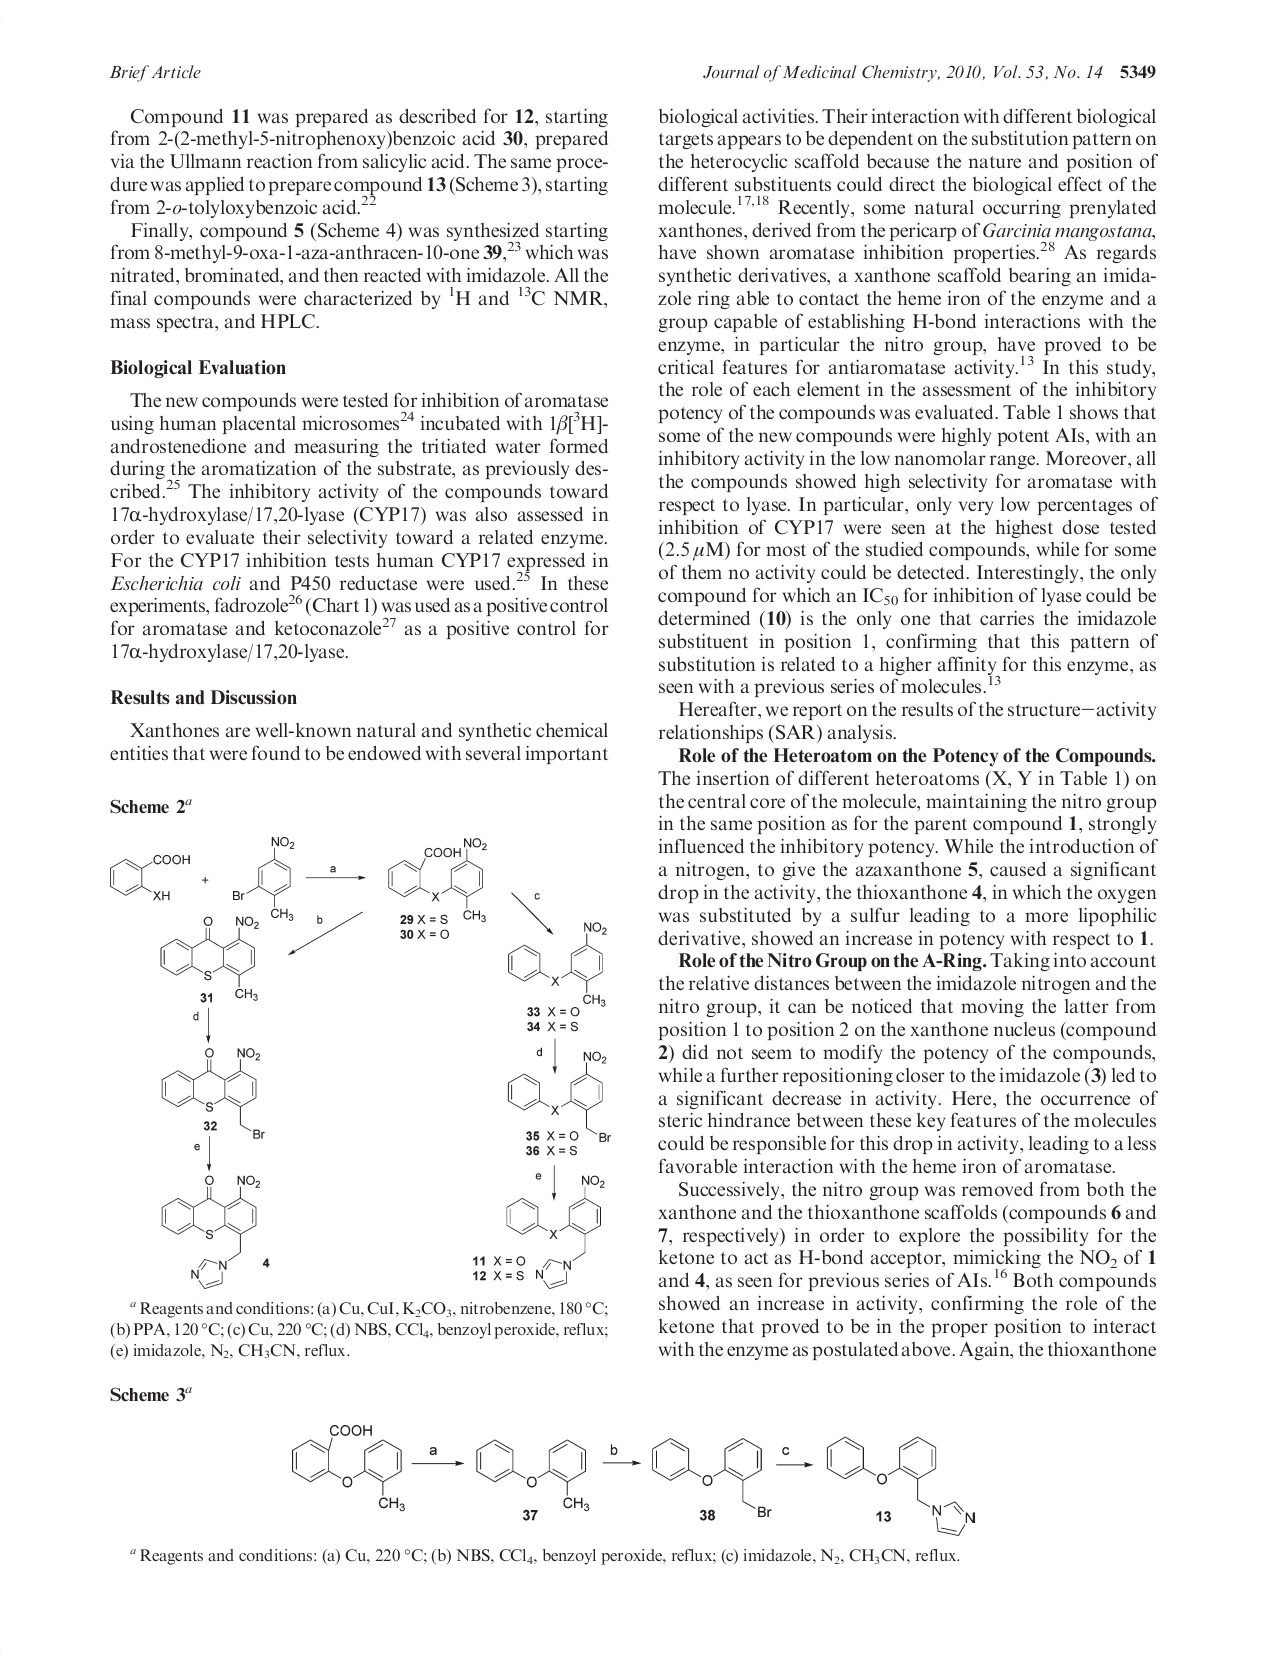exist_molecular: (823, 1432, 979, 1540), (152, 1170, 265, 1290), (503, 1168, 608, 1291), (160, 1043, 267, 1145), (290, 1420, 407, 1513), (505, 1048, 614, 1148), (648, 1436, 773, 1521), (471, 1434, 593, 1515), (157, 914, 263, 1005), (386, 833, 488, 922), (507, 918, 610, 1005), (231, 830, 299, 924), (106, 852, 191, 906)
